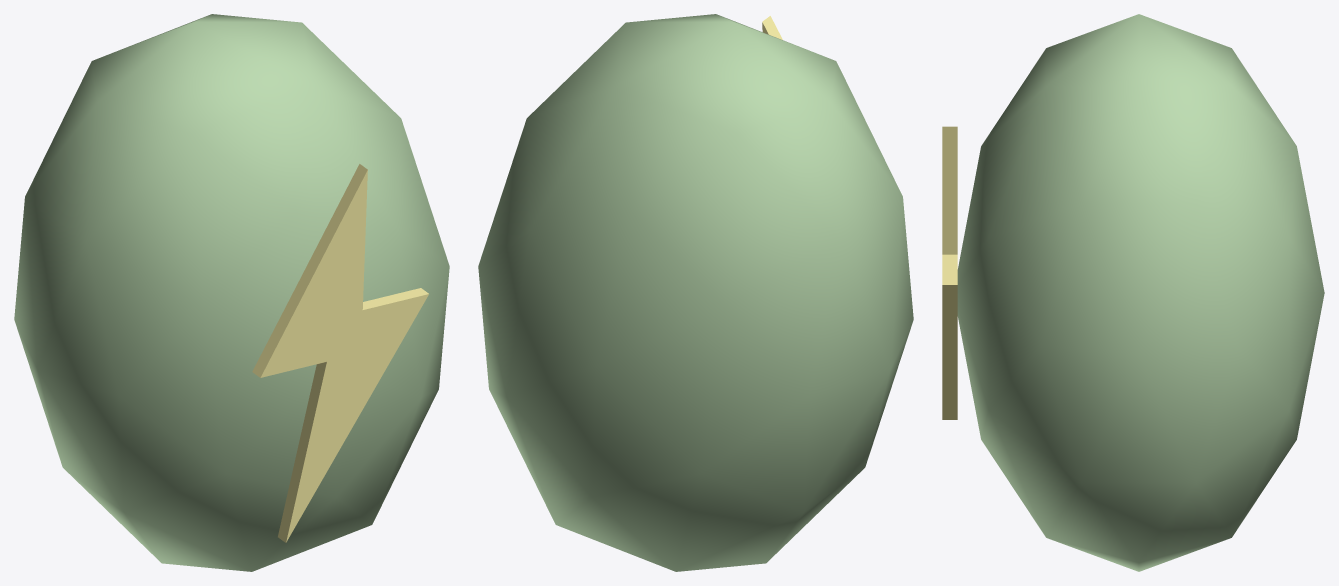
Rendered from item-thunderStone.glb.
The picture shows the model from 3 angles, left to right: view 1: azimuth 30°, elevation 25°; view 2: azimuth 150°, elevation 25°; view 3: azimuth 270°, elevation 25°; orthographic projection. The views are drawn at different scales.
Parts seen in each view (by area): view 1: item-thunderStone; view 2: item-thunderStone; view 3: item-thunderStone.
Boxes of the visible parts, x1,y1,x2,y2 form: item-thunderStone: (14, 14, 449, 571); item-thunderStone: (478, 14, 913, 571); item-thunderStone: (942, 14, 1324, 571).
Size of the model in its own units: 0.3958 by 0.5442 by 0.3602.
